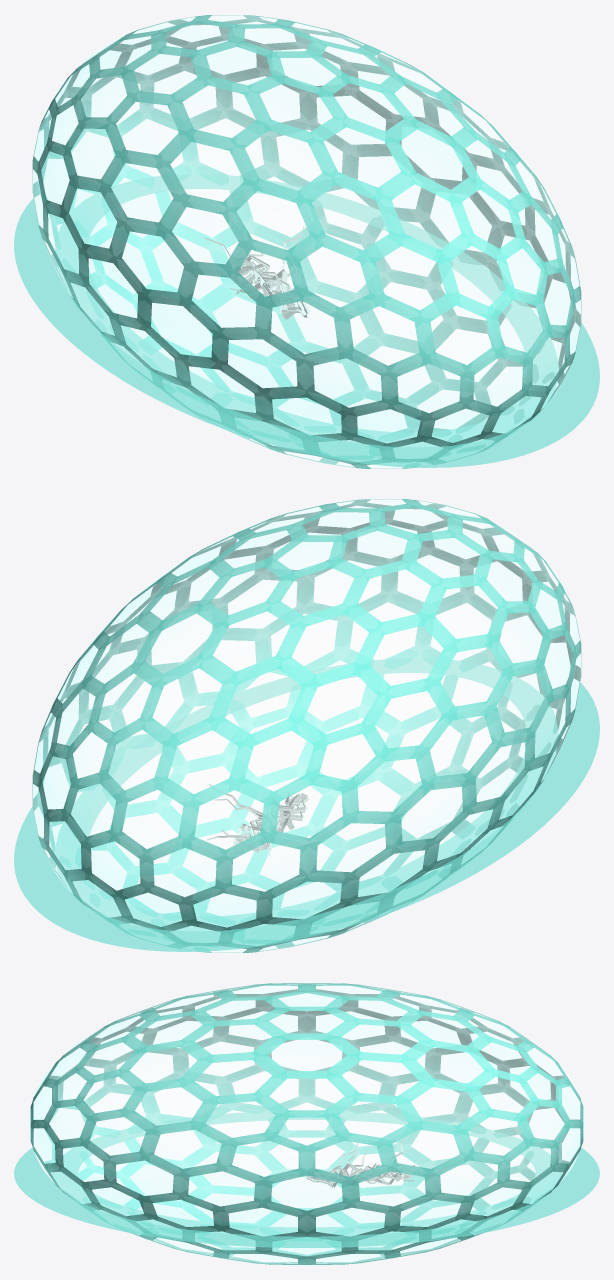
File: PV_Khien.fbx
3 views of the same model, one above another, from view 1: azimuth 30°, elevation 25°; view 2: azimuth 150°, elevation 25°; view 3: azimuth 270°, elevation 25° (orthographic). The views are drawn at different scales.
Visible parts, largest first — view 1: Khien_Vo, Khien_O, Khien_Khung, Khien_Vanh; view 2: Khien_Vo, Khien_O, Khien_Khung, Khien_Vanh; view 3: Khien_Vo, Khien_O, Khien_Khung, Khien_Vanh.
Part boxes in pixels (x1=…): Khien_Vo: x1=32, y1=14, x2=581, y2=469; Khien_O: x1=33, y1=15, x2=580, y2=468; Khien_Khung: x1=32, y1=15, x2=581, y2=468; Khien_Vanh: x1=14, y1=174, x2=599, y2=467; Khien_Vo: x1=32, y1=498, x2=581, y2=953; Khien_O: x1=33, y1=499, x2=580, y2=952; Khien_Khung: x1=32, y1=499, x2=581, y2=952; Khien_Vanh: x1=14, y1=658, x2=599, y2=951; Khien_Vo: x1=28, y1=982, x2=585, y2=1265; Khien_O: x1=28, y1=982, x2=585, y2=1265; Khien_Khung: x1=30, y1=983, x2=583, y2=1264; Khien_Vanh: x1=14, y1=1111, x2=599, y2=1247.
Size of the model in its own units: 3.35 by 2.6 by 5.57.
